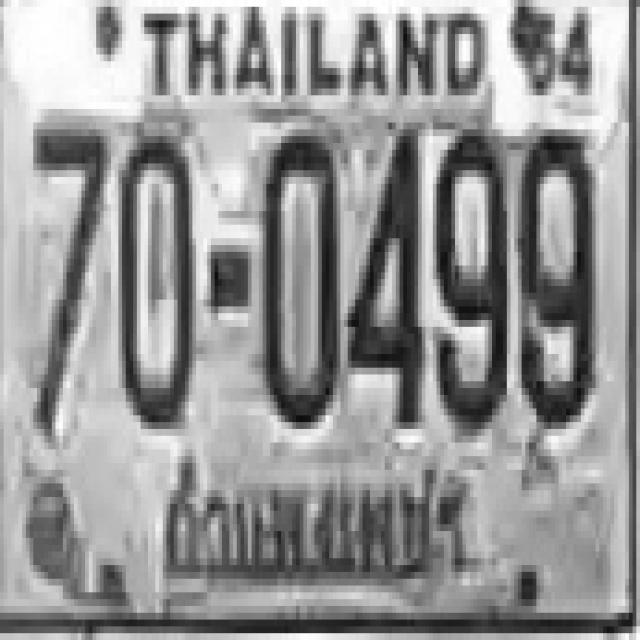0: (259, 126, 337, 419), (119, 123, 192, 422)
4: (346, 119, 420, 419)
7: (30, 116, 107, 429)
9: (518, 123, 592, 422), (433, 126, 503, 425)
KamphaengPhet: (147, 455, 478, 592)
